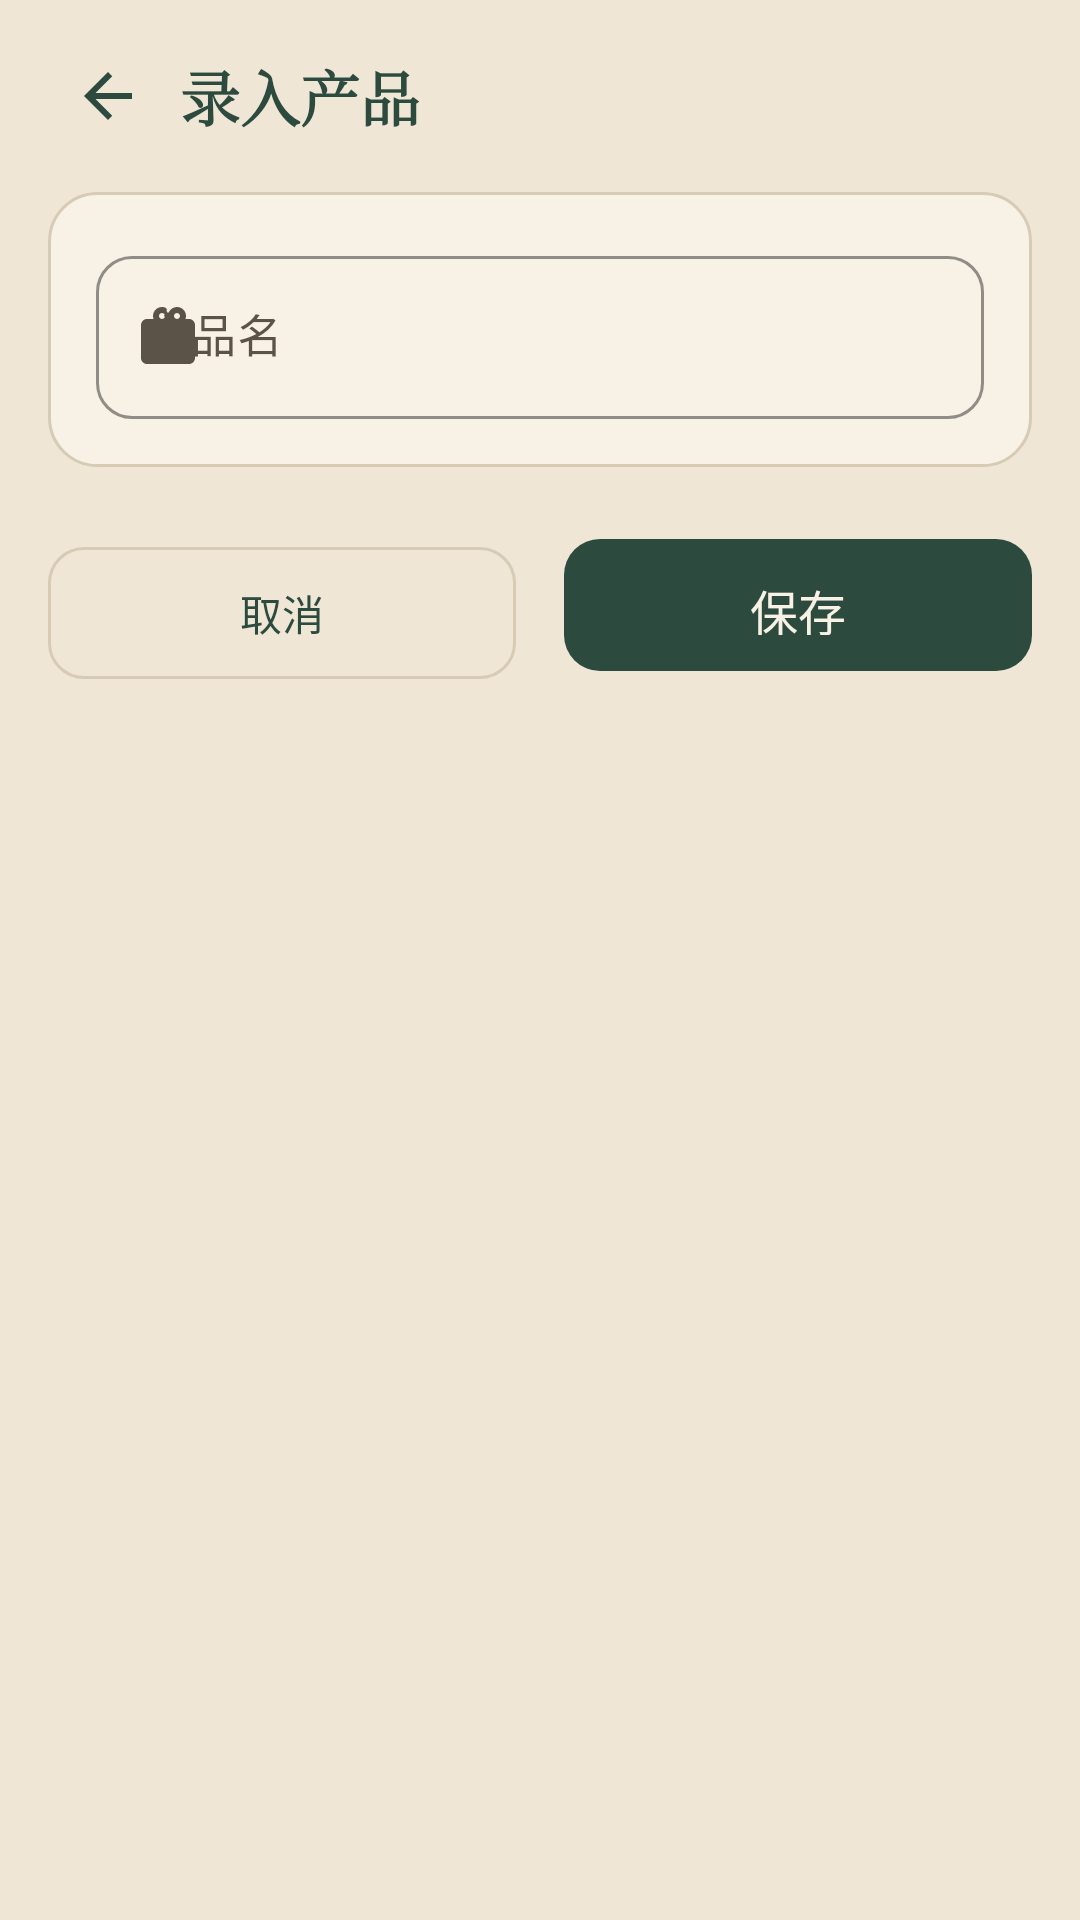

Icons on this 1080 x 1920 Android screen, each with the point to tap as (x=x, y=y):
返回: (x=108, y=96)
